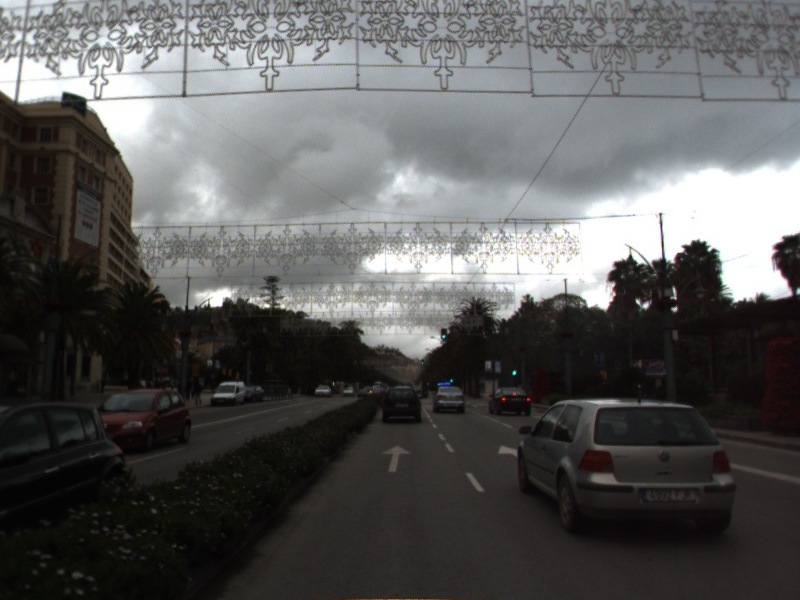STRAIGHT: (379, 443, 414, 474), (496, 443, 521, 459)
